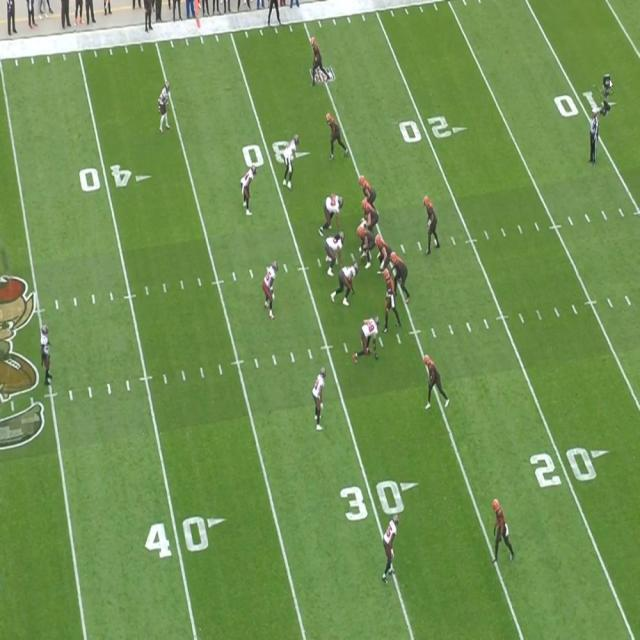center: (356, 222, 373, 262)
db: (382, 516, 399, 578), (316, 368, 328, 430), (284, 134, 298, 186), (156, 84, 170, 133), (40, 324, 50, 388)
lb: (266, 261, 279, 317), (241, 165, 255, 211), (8, 316, 18, 358)
qb: (423, 195, 438, 249)
skill: (492, 497, 515, 561), (423, 354, 444, 410), (326, 112, 342, 158), (310, 37, 323, 85), (385, 266, 396, 322)
